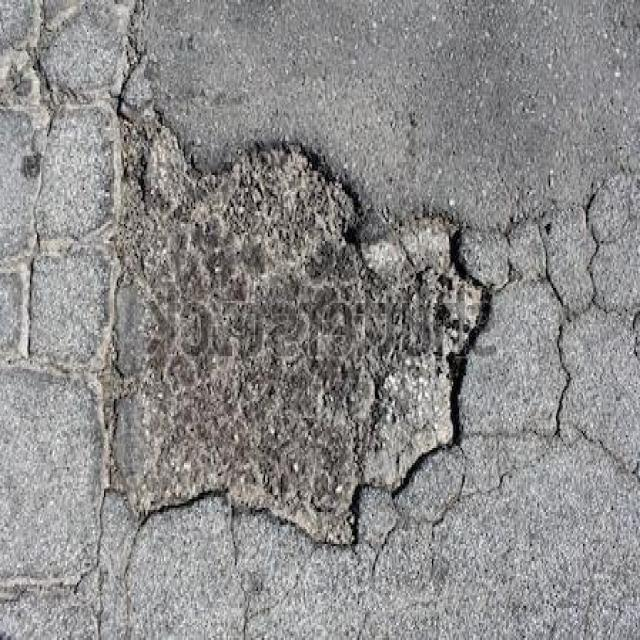Pothole: (104, 129, 498, 554)
